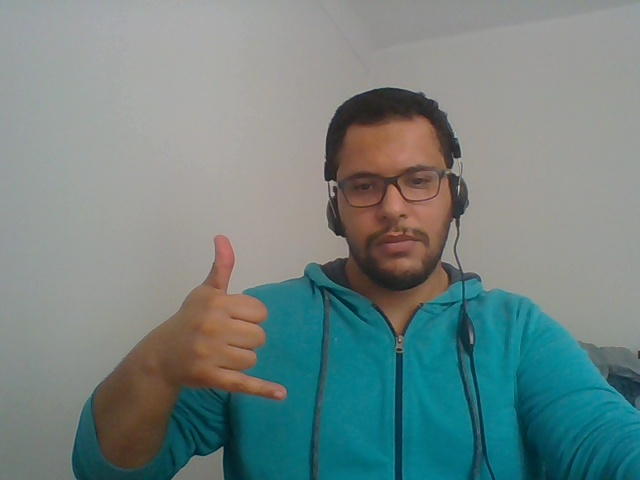callme: (88, 204, 297, 477)
